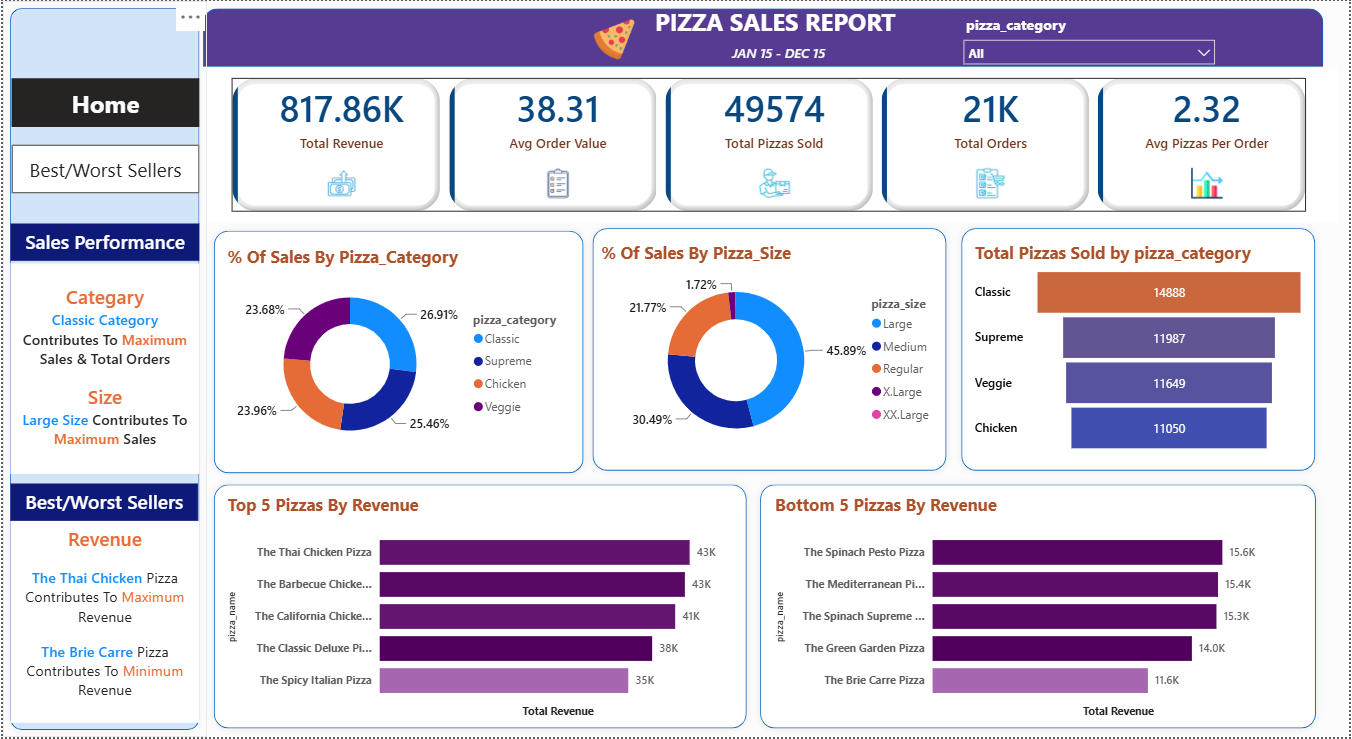

The dashboard page shown, as its layout file describes it:
{"tool":"powerbi","page":{"name":"Home","canvas":[1500,820],"ordinal":0},"visuals":[{"type":"cardVisual","fields":{"Data":["pizza_sales.Total Revenue","pizza_sales.Avg Order Value","pizza_sales.Total Pizzas Sold","pizza_sales.Total Orders","pizza_sales.Avg Pizzas Per Order"]},"box":[223.5,74,1263.9,173.7],"z":0},{"type":"shape","box":[223.3,8.3,1248.3,65],"z":1000},{"type":"textbox","box":[721.7,0,278.3,50],"z":2000},{"type":"textbox","box":[795,43.3,138.3,30],"z":3000},{"type":"image","box":[651.7,20,58.3,46.7],"z":4000},{"type":"shape","box":[226.7,247.6,427.7,286.2],"z":5000},{"type":"donutChart","title":"% Of Sales By Pizza_Category","fields":{"Category":["pizza_sales.pizza_category"],"Y":["pizza_sales.Total Revenue"]},"box":[244.4,271.8,392.4,241.2],"z":6000},{"type":"shape","box":[1059.7,244.4,410.1,286.2],"z":7000},{"type":"shape","box":[649.7,244.4,410.1,286.2],"z":8000},{"type":"donutChart","title":"% Of Sales By Pizza_Size","fields":{"Category":["pizza_sales.pizza_size"],"Y":["pizza_sales.Total Revenue"]},"box":[660.9,266.9,390.8,241.2],"z":9000},{"type":"funnel","fields":{"Category":["pizza_sales.pizza_category"],"Y":["pizza_sales.Total Pizzas Sold"]},"box":[1077.4,266.9,377.9,241.2],"z":10000},{"type":"shape","box":[836.2,530.7,635.2,287.8],"z":11000},{"type":"shape","box":[226.7,530.7,609.5,287.8],"z":12000},{"type":"shape","box":[0,0,226.7,820.1],"z":13000},{"type":"textbox","box":[8,247.6,210.7,41.8],"z":14000},{"type":"textbox","box":[8,292.7,210.7,234.8],"z":15000},{"type":"slicer","fields":{"Values":["pizza_sales.pizza_category"]},"box":[1059.7,9.6,300.7,61.1],"z":16000},{"type":"textbox","box":[8,537.1,209,41.8],"z":17000},{"type":"textbox","box":[8,578.9,210.7,225.1],"z":18000},{"type":"barChart","title":"Top 5 Pizzas By Revenue ","fields":{"Category":["pizza_sales.pizza_name"],"Y":["pizza_sales.Total Revenue"]},"box":[244.4,548.4,577.3,255.7],"z":19000},{"type":"barChart","title":"Bottom 5 Pizzas By Revenue","fields":{"Category":["pizza_sales.pizza_name"],"Y":["pizza_sales.Total Revenue"]},"box":[855.5,548.4,599.8,255.7],"z":20000},{"type":"pageNavigator","box":[9.6,86.8,209,54.7],"z":21000},{"type":"pageNavigator","box":[9.6,160.8,209,54.7],"z":22000}]}

Visuals, with their boxes on the page's 1500x820 design canvas (x1, y1, x2, y2). These are canvas units, not pixel positions in the 1352x739 screenshot, which may show the page scaled, cropped or inside an application window:
cardVisual - pizza_sales.Total Revenue x pizza_sales.Avg Order Value: pyautogui.locateOnScreen(224, 74, 1487, 248)
shape: pyautogui.locateOnScreen(223, 8, 1472, 73)
textbox: pyautogui.locateOnScreen(722, 0, 1000, 50)
textbox: pyautogui.locateOnScreen(795, 43, 933, 73)
image: pyautogui.locateOnScreen(652, 20, 710, 67)
shape: pyautogui.locateOnScreen(227, 248, 654, 534)
"% Of Sales By Pizza_Category" donutChart: pyautogui.locateOnScreen(244, 272, 637, 513)
shape: pyautogui.locateOnScreen(1060, 244, 1470, 531)
shape: pyautogui.locateOnScreen(650, 244, 1060, 531)
"% Of Sales By Pizza_Size" donutChart: pyautogui.locateOnScreen(661, 267, 1052, 508)
funnel - pizza_sales.pizza_category x pizza_sales.Total Pizzas Sold: pyautogui.locateOnScreen(1077, 267, 1455, 508)
shape: pyautogui.locateOnScreen(836, 531, 1471, 818)
shape: pyautogui.locateOnScreen(227, 531, 836, 818)
shape: pyautogui.locateOnScreen(0, 0, 227, 820)
textbox: pyautogui.locateOnScreen(8, 248, 219, 289)
textbox: pyautogui.locateOnScreen(8, 293, 219, 528)
slicer - pizza_sales.pizza_category: pyautogui.locateOnScreen(1060, 10, 1360, 71)
textbox: pyautogui.locateOnScreen(8, 537, 217, 579)
textbox: pyautogui.locateOnScreen(8, 579, 219, 804)
"Top 5 Pizzas By Revenue " barChart: pyautogui.locateOnScreen(244, 548, 822, 804)
"Bottom 5 Pizzas By Revenue" barChart: pyautogui.locateOnScreen(856, 548, 1455, 804)
pageNavigator: pyautogui.locateOnScreen(10, 87, 219, 142)
pageNavigator: pyautogui.locateOnScreen(10, 161, 219, 216)
